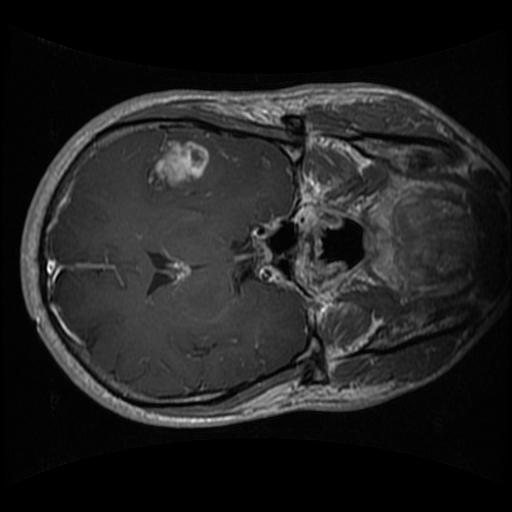glioma: (137, 131, 214, 203)
